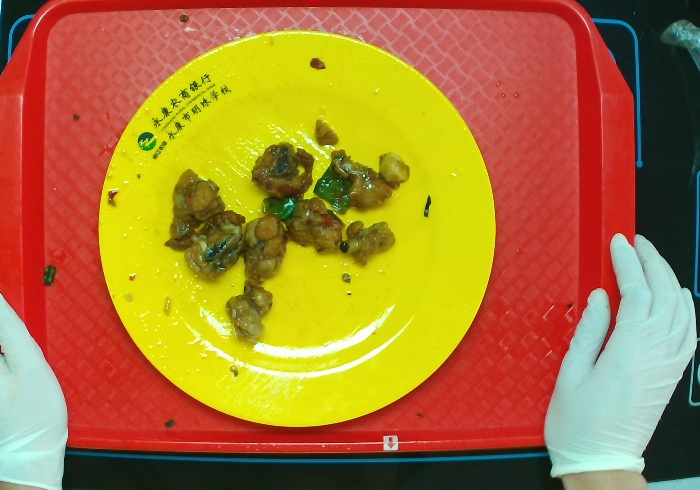YKMZ-Huang_Se_Mian_Pan: (97, 28, 498, 429)
